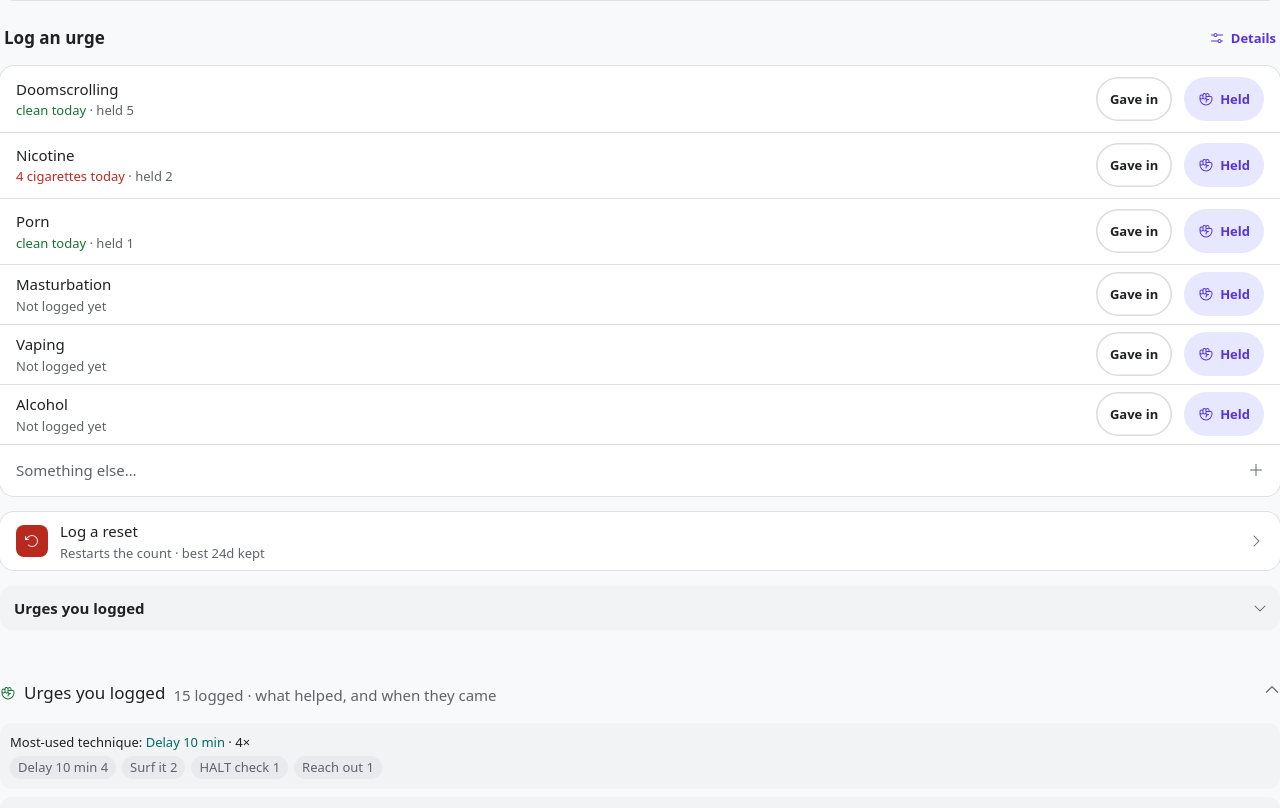
Test case: Recovery on a phone · one select picks the panel › opens an urge for editing by tapping its row, and asks before deleting it
Step 1. Select "Urges you logged" in the dropdown → [640, 608], box [0,586,1279,630]
(page scrolled)
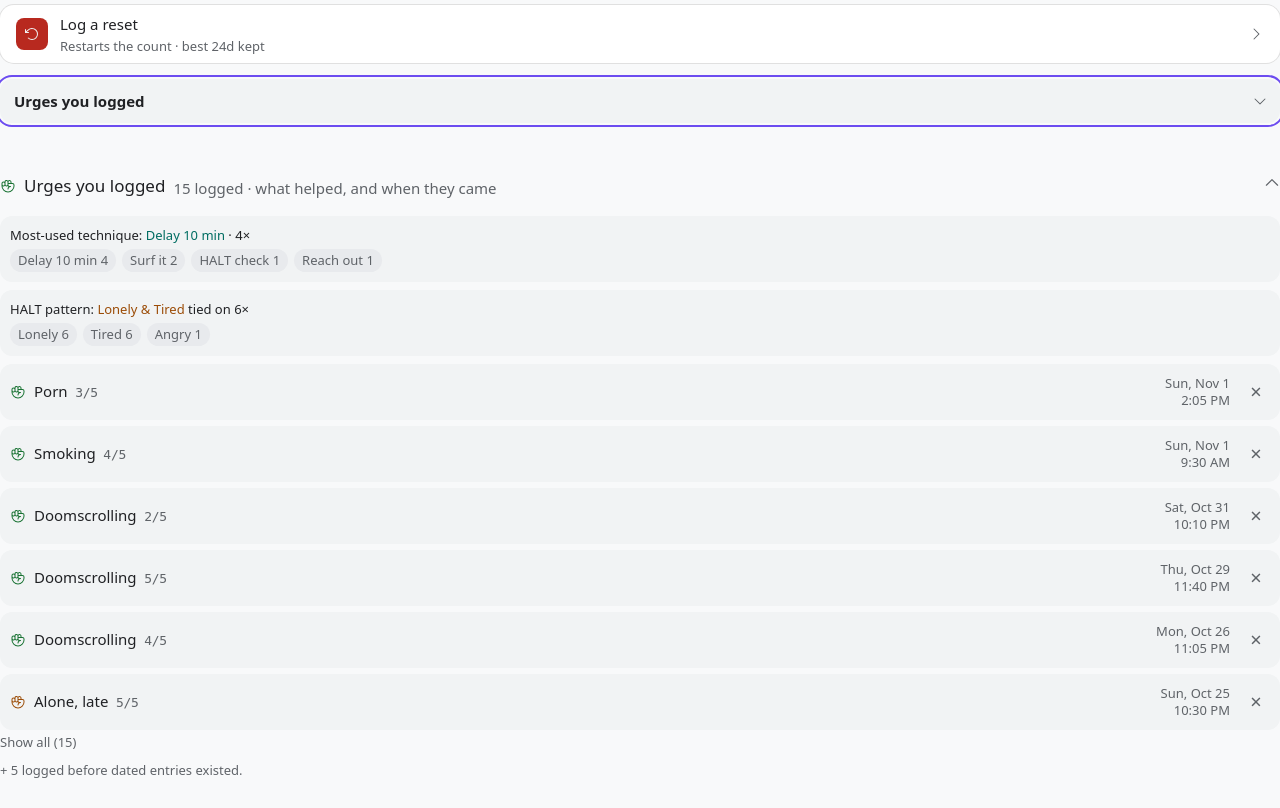
Step 2. Click the button named "Edit" → [51, 391], box [10,370,1230,414]
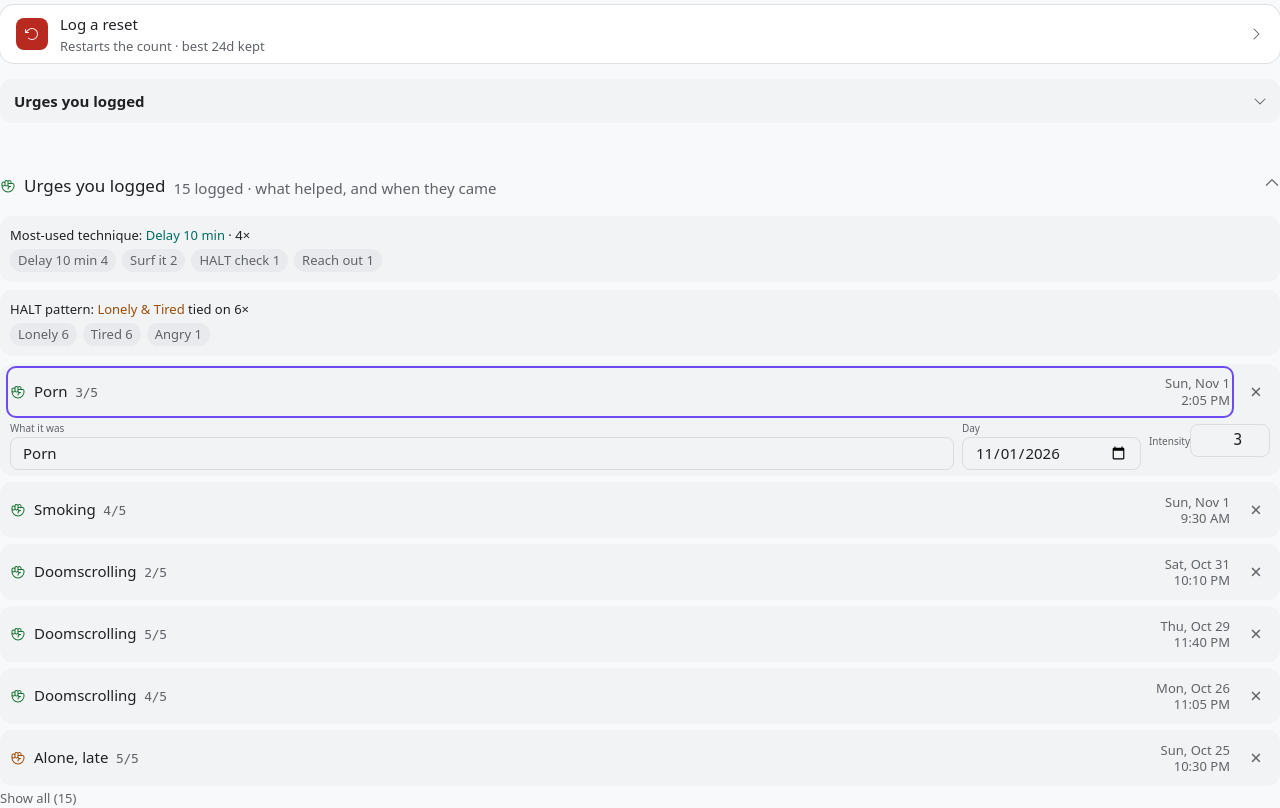
Check: the field is shown, box [10,437,954,470]
Step 3. Click the button named "Delete the urge on " → [1256, 392], box [1234,370,1278,414]
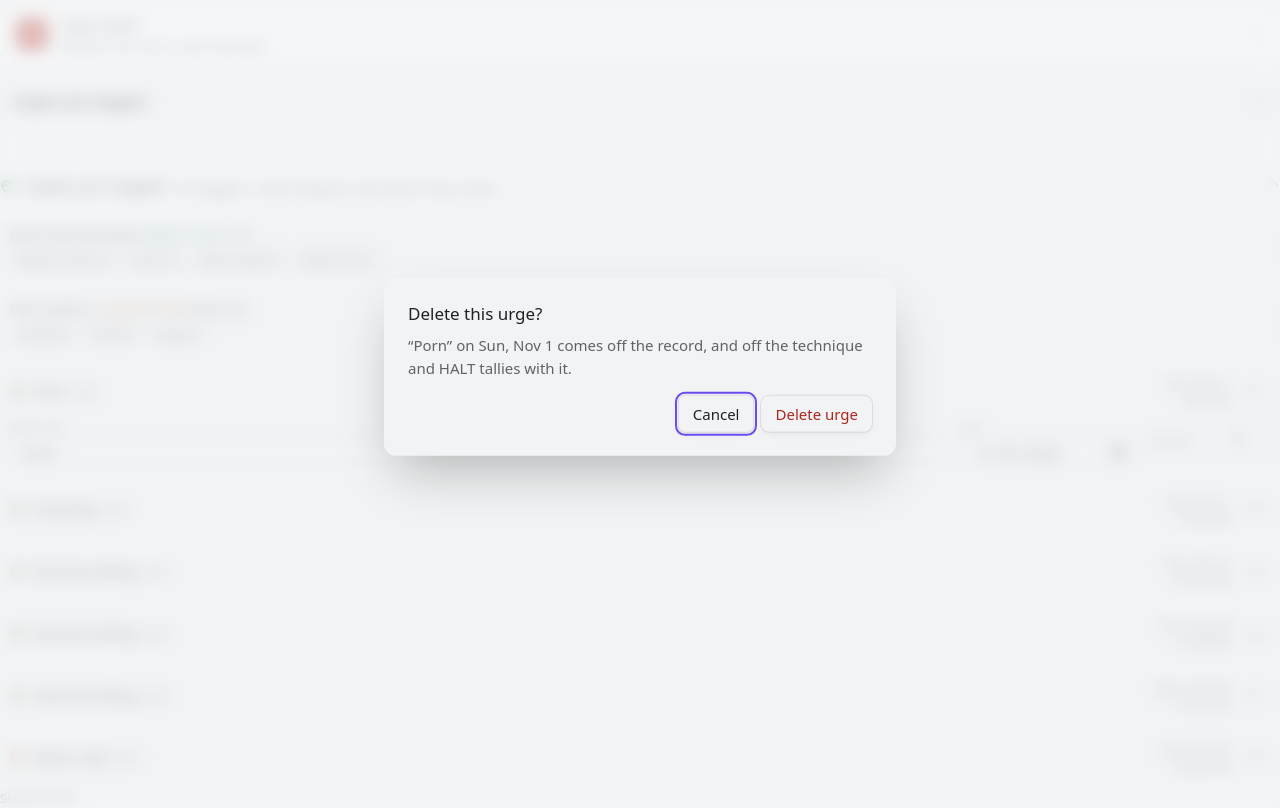
Check: the dialog "Delete this urge?" is shown, box [384,278,896,456]
